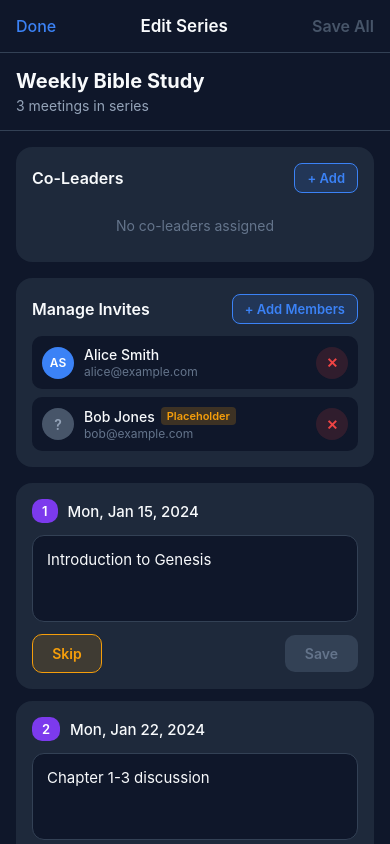
Test: MeetingSeriesEditorModal › should show all members invited message when all are already attendees
Click the text "+ Add Members".
click(295, 309)  # box [245,301,345,317]
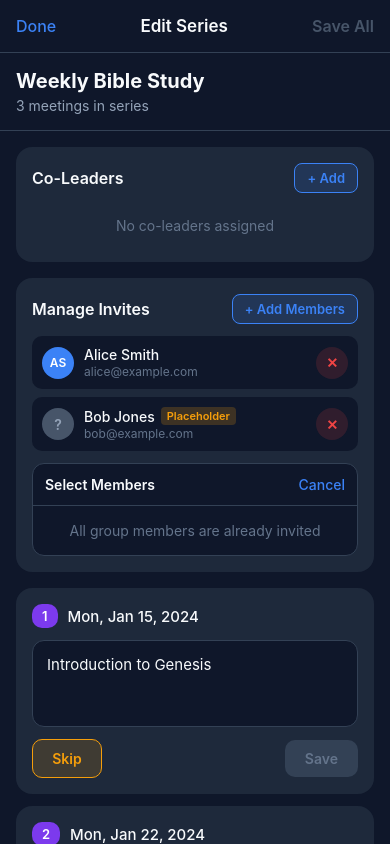
Expected: the text "All group members are already invited" is shown, [70,522,320,539]
